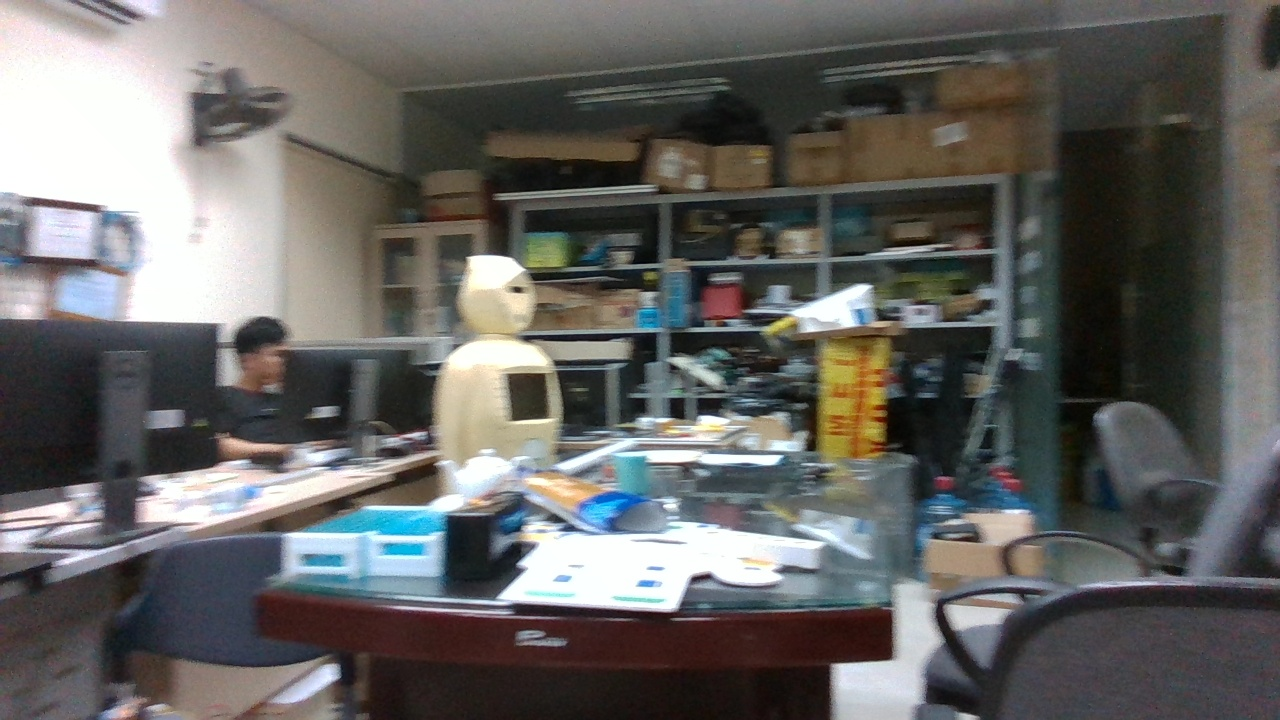person: (421, 250, 564, 459)
